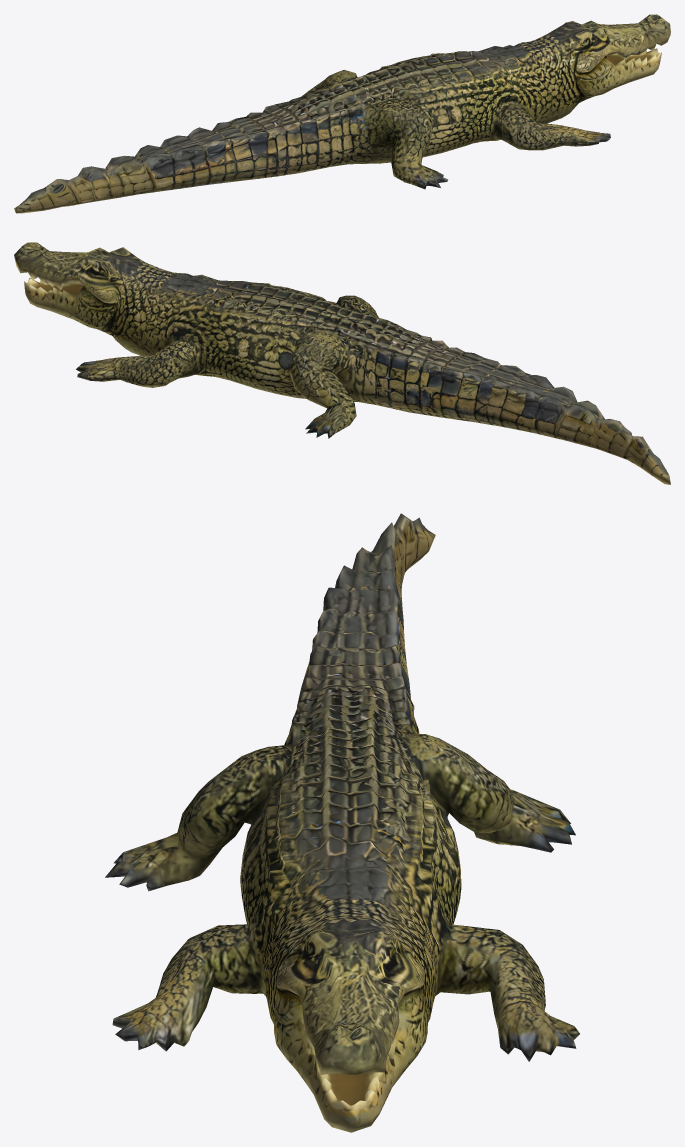
File: crocodile.glb
3 views of the same model, one above another, from view 1: azimuth 30°, elevation 25°; view 2: azimuth 150°, elevation 25°; view 3: azimuth 270°, elevation 25° (orthographic). The views are drawn at different scales.
Visible parts, largest first — view 1: tripo_node_7935367e-9d09-452e-a8d5-a873811f9a0b; view 2: tripo_node_7935367e-9d09-452e-a8d5-a873811f9a0b; view 3: tripo_node_7935367e-9d09-452e-a8d5-a873811f9a0b.
Boxes of the visible parts, x1,y1,x2,y2 form: tripo_node_7935367e-9d09-452e-a8d5-a873811f9a0b: [14, 14, 670, 213]; tripo_node_7935367e-9d09-452e-a8d5-a873811f9a0b: [14, 242, 670, 484]; tripo_node_7935367e-9d09-452e-a8d5-a873811f9a0b: [105, 513, 579, 1132].
Size of the model in its own units: 0.9992 by 0.1231 by 0.3253.
1 material, 1 textured.
